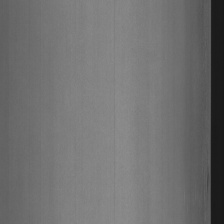silk_spot: (187, 148, 209, 212)
